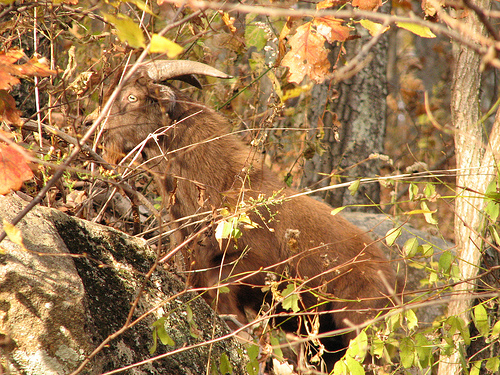goat: (78, 57, 405, 358)
